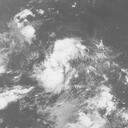cyclone: (36, 37, 82, 93)
